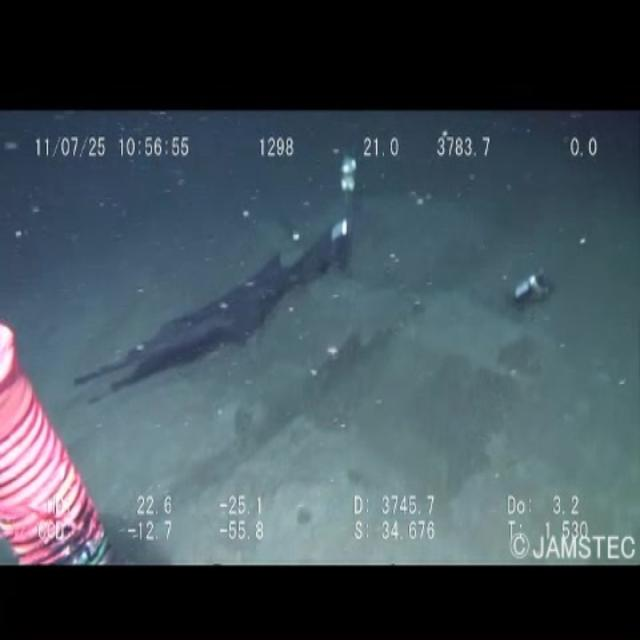Metal: (56, 147, 374, 393), (500, 240, 565, 328)
